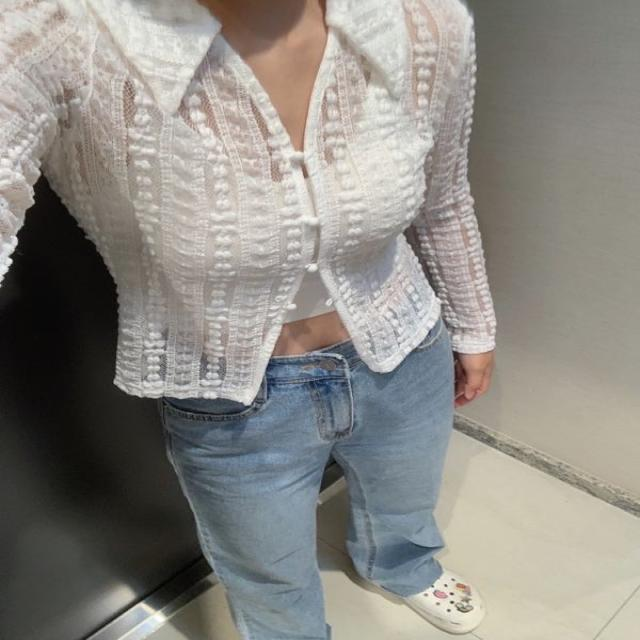cardigan: (0, 0, 502, 405)
denimpants: (159, 318, 453, 640)
